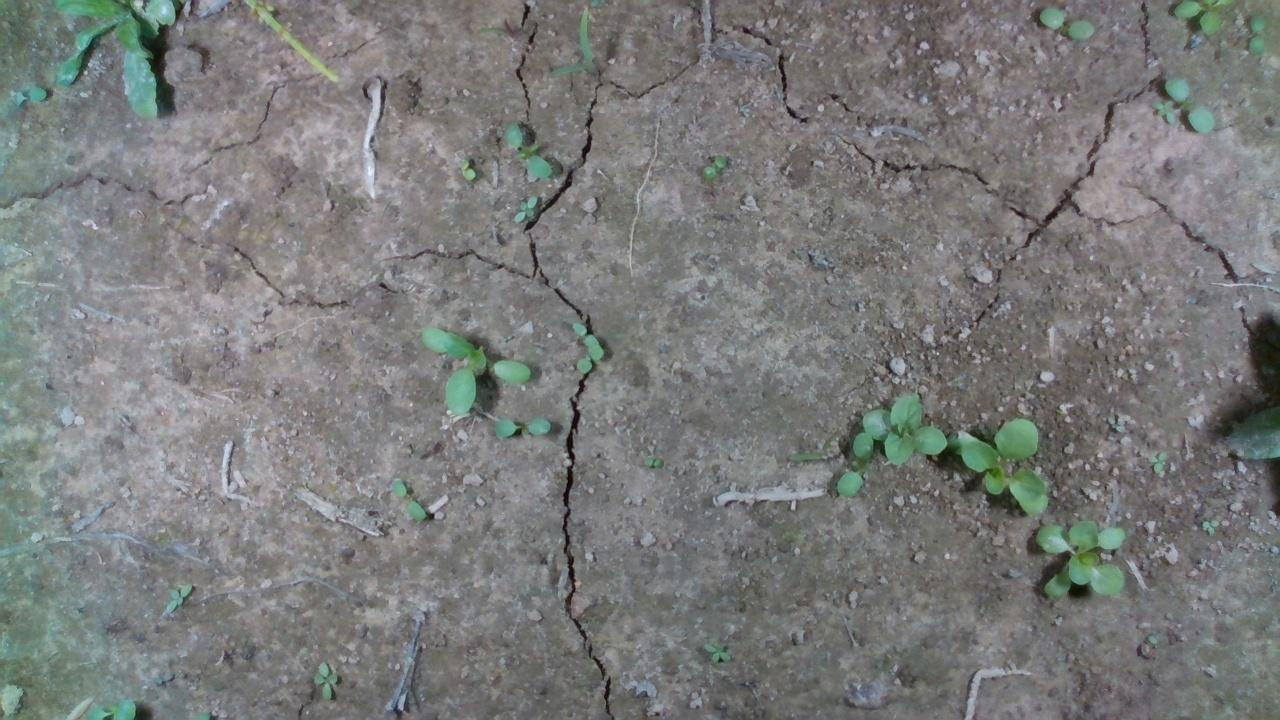weed: (500, 121, 554, 178), (492, 411, 579, 438), (382, 475, 423, 530), (511, 189, 545, 235), (1193, 510, 1229, 541), (692, 152, 734, 178), (158, 579, 194, 605), (310, 660, 339, 685), (1101, 406, 1126, 431), (1143, 442, 1165, 467), (634, 451, 665, 468), (457, 158, 481, 179)
